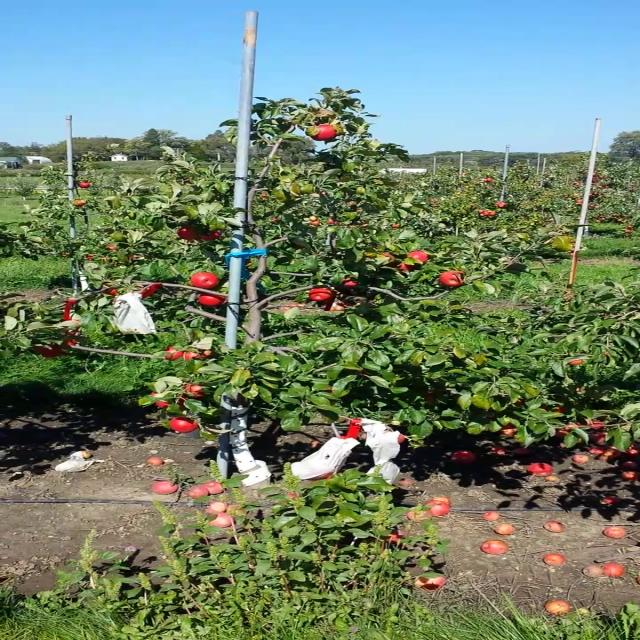apple: (151, 390, 187, 410), (307, 124, 338, 142), (181, 348, 218, 362), (439, 270, 467, 288), (554, 420, 581, 437), (190, 272, 218, 288), (169, 417, 197, 433), (307, 288, 337, 302), (197, 294, 224, 308), (302, 471, 334, 481), (139, 284, 161, 298), (186, 384, 208, 398), (64, 318, 80, 336), (178, 226, 198, 240), (588, 431, 608, 445), (165, 346, 183, 361), (542, 402, 566, 413), (393, 260, 419, 270), (36, 346, 62, 356), (499, 424, 520, 436), (199, 230, 223, 240), (408, 250, 428, 262), (583, 420, 606, 430), (340, 276, 358, 288), (381, 252, 396, 266), (58, 338, 77, 348), (103, 287, 119, 295), (396, 433, 406, 445), (424, 394, 436, 402), (569, 358, 583, 364)
